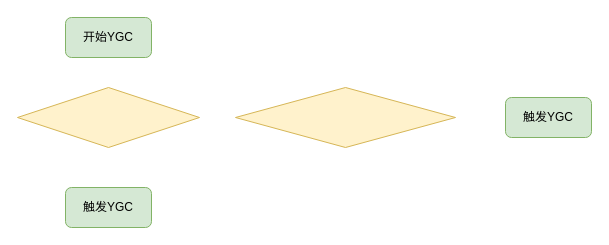
Some shapes in this 609 by 245 pixel diagram are drawn without their labels. The shapes that lost their labels are listed below. From the top down, each one's box as (x1, y1, x2, y2) in pixels, then its label:
(16, 86, 200, 148): 老年代可用空间大于新生代大小
(234, 86, 456, 148): 老年代可用空间是否大于历次晋升到老年代对象的平均大小
